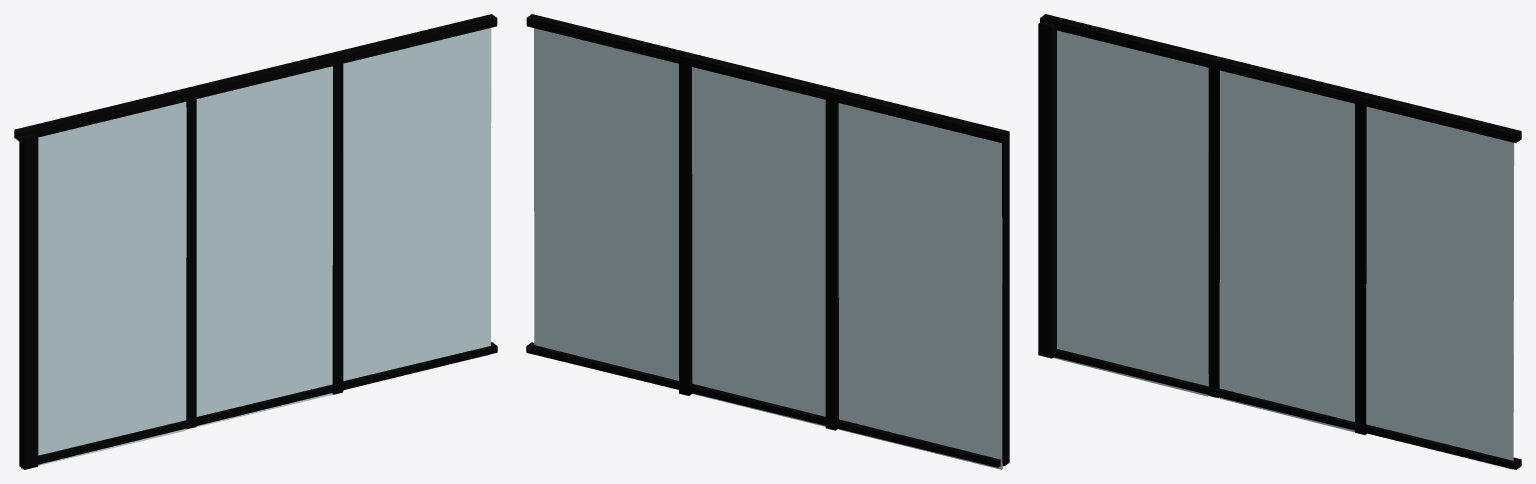
The model's file is Cynglasswall2flatBLACK.glb.
3 views of the same model, side by side, from view 1: azimuth 30°, elevation 25°; view 2: azimuth 150°, elevation 25°; view 3: azimuth 330°, elevation 25° (orthographic).
Visible parts, largest first — view 1: doorfleft.003, doorfleft.001, doorfleft.002, Cube.002, Cube.001, Cube.007, Cube.004, Cube.005; view 2: doorfleft.003, doorfleft.001, doorfleft.002, Cube.002, Cube.007, Cube.005, Cube.004, Cube.001; view 3: doorfleft.003, doorfleft.001, doorfleft.002, Cube.002, Cube.001, Cube.007, Cube.004, Cube.005.
Boxes of the visible parts, bbox=[...] form: doorfleft.003: bbox=[21, 102, 186, 469]; doorfleft.001: bbox=[343, 28, 491, 380]; doorfleft.002: bbox=[196, 66, 332, 427]; Cube.002: bbox=[14, 14, 497, 141]; Cube.001: bbox=[19, 133, 38, 469]; Cube.007: bbox=[38, 342, 497, 464]; Cube.004: bbox=[332, 64, 343, 394]; Cube.005: bbox=[186, 99, 196, 429]; doorfleft.003: bbox=[838, 103, 1002, 469]; doorfleft.001: bbox=[534, 28, 678, 380]; doorfleft.002: bbox=[692, 67, 825, 426]; Cube.002: bbox=[526, 14, 1007, 142]; Cube.007: bbox=[526, 342, 1000, 467]; Cube.005: bbox=[825, 100, 838, 430]; Cube.004: bbox=[679, 64, 692, 395]; Cube.001: bbox=[1002, 131, 1009, 466]; doorfleft.003: bbox=[1053, 30, 1208, 396]; doorfleft.001: bbox=[1366, 106, 1514, 469]; doorfleft.002: bbox=[1219, 70, 1354, 432]; Cube.002: bbox=[1040, 14, 1521, 143]; Cube.001: bbox=[1038, 21, 1056, 358]; Cube.007: bbox=[1054, 349, 1521, 469]; Cube.004: bbox=[1355, 104, 1366, 434]; Cube.005: bbox=[1208, 68, 1219, 397].
Size of the model in its own units: 2.88 by 1.95 by 0.0912.
